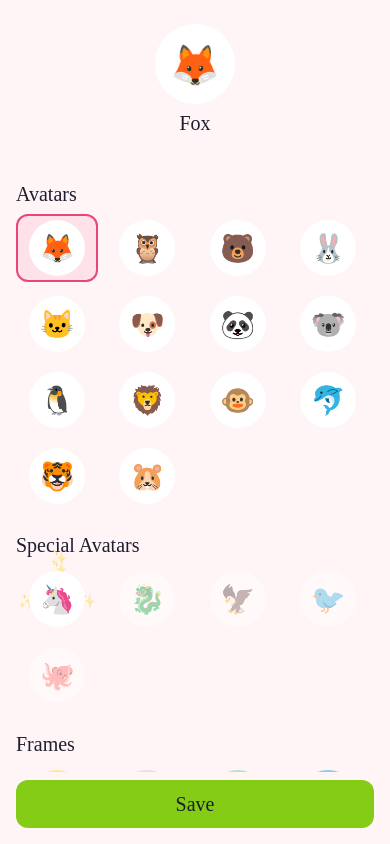
AvatarPickerScreen › tapping a locked item shows the detail overlay
Click the element with test id "locked-item" showing "🐉": coordinates (148, 599) [120, 571, 176, 627]
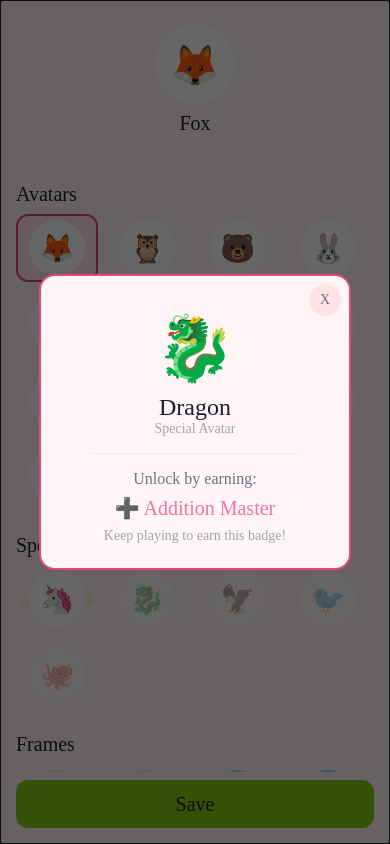
Expected: the dialog with test id "cosmetic-detail-overlay" is shown
